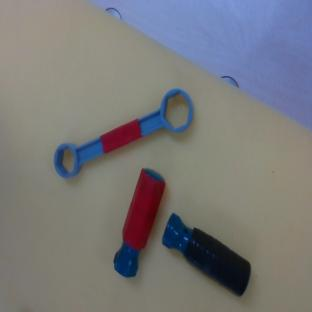part_2_bad: (154, 211, 260, 297)
part_2_good: (108, 166, 169, 280)
part_3_good: (45, 84, 201, 183)
